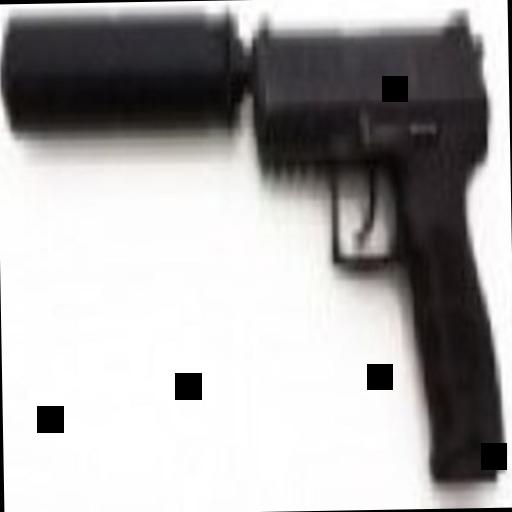Handgun: (1, 2, 502, 494)
